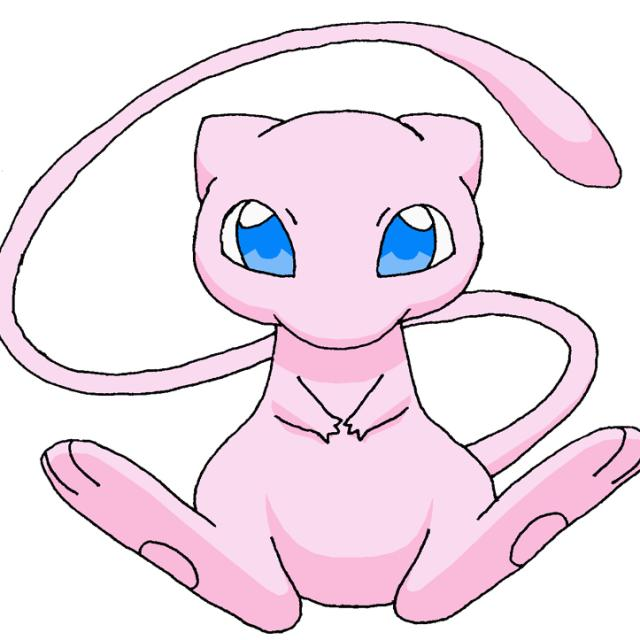Mew: (187, 99, 481, 486)
